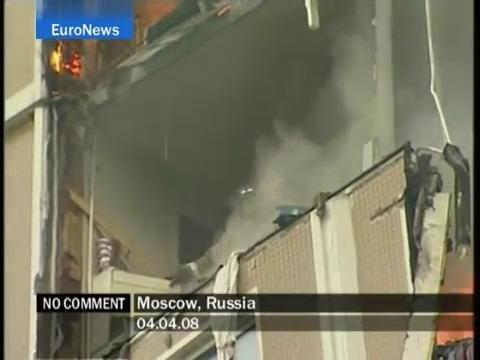fire: (47, 39, 84, 79)
